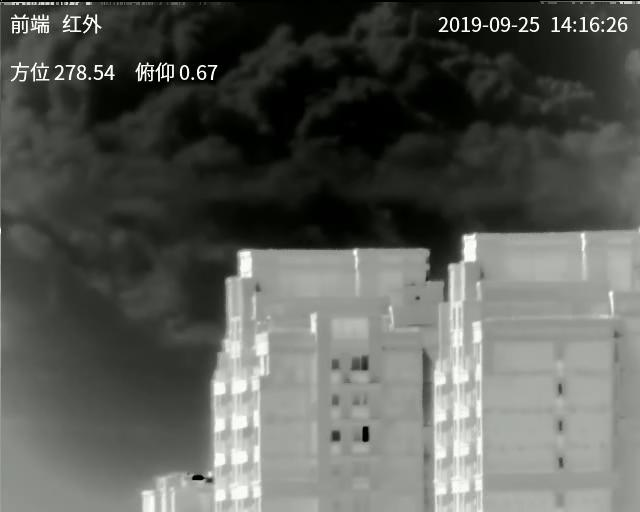uav: (246, 308, 274, 332)
